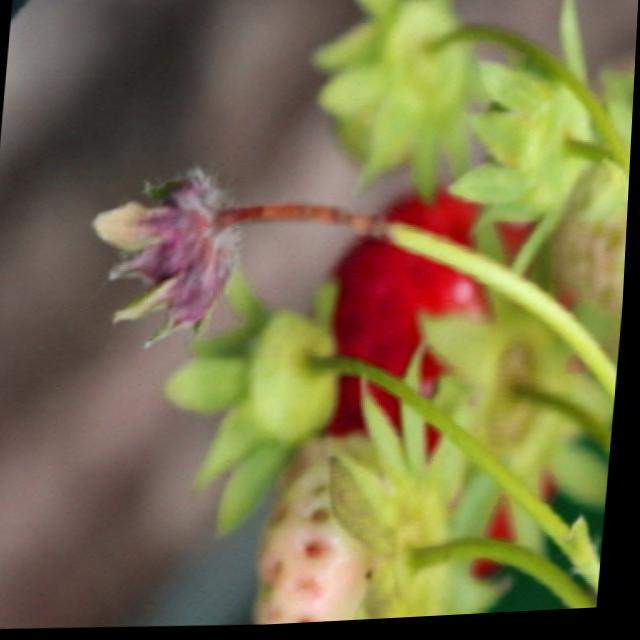Gray Mold: (89, 170, 259, 350)
